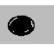correct: (4, 11, 40, 39)
